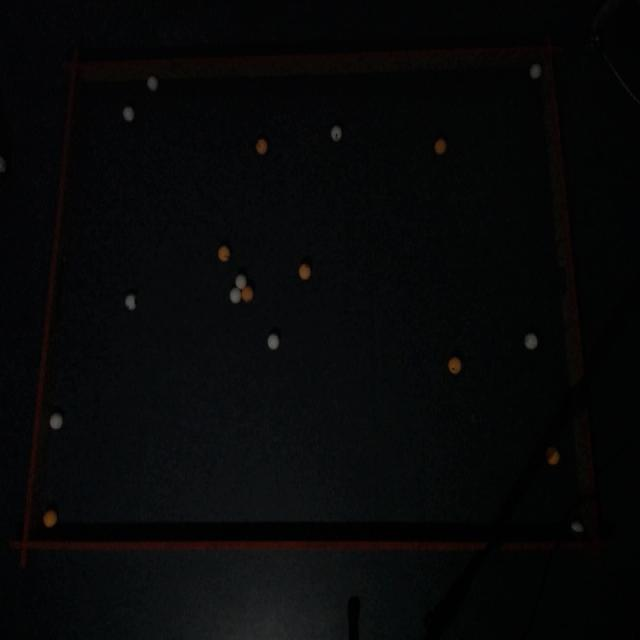orange_ball: (42, 509, 58, 529), (546, 447, 560, 466), (448, 356, 462, 374), (434, 138, 447, 155), (255, 138, 268, 155), (242, 285, 254, 302), (218, 245, 230, 262), (299, 264, 311, 280)
white_ball: (49, 412, 64, 430), (524, 333, 538, 350), (529, 63, 542, 79), (122, 105, 134, 122), (268, 333, 280, 350), (146, 75, 158, 91), (235, 273, 247, 289), (125, 296, 136, 311), (331, 125, 341, 141), (230, 288, 240, 303), (572, 522, 584, 534)
